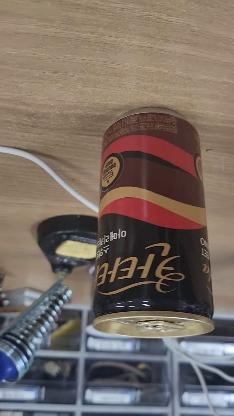Can: (97, 104, 213, 340)
